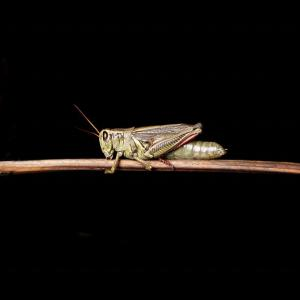locust: (76, 104, 242, 192)
